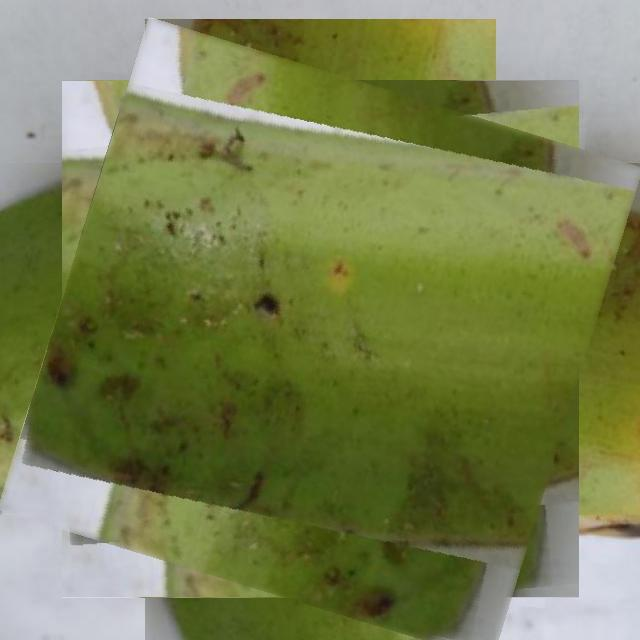Verde: (29, 49, 611, 629)
